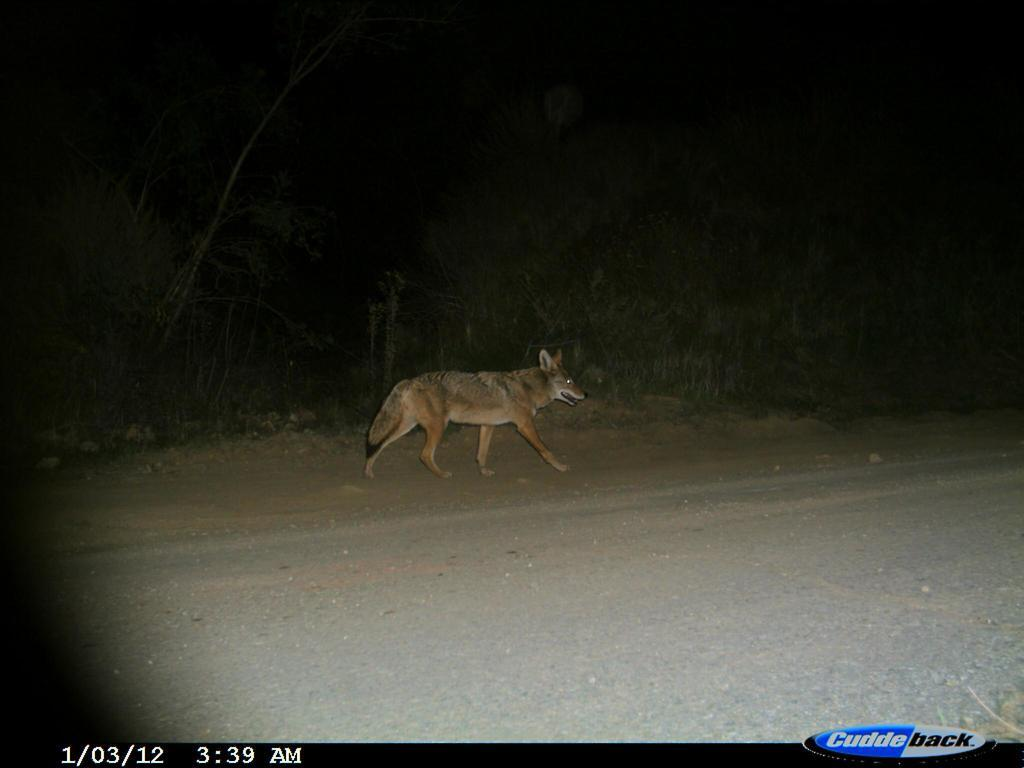coyote: (361, 341, 591, 486)
